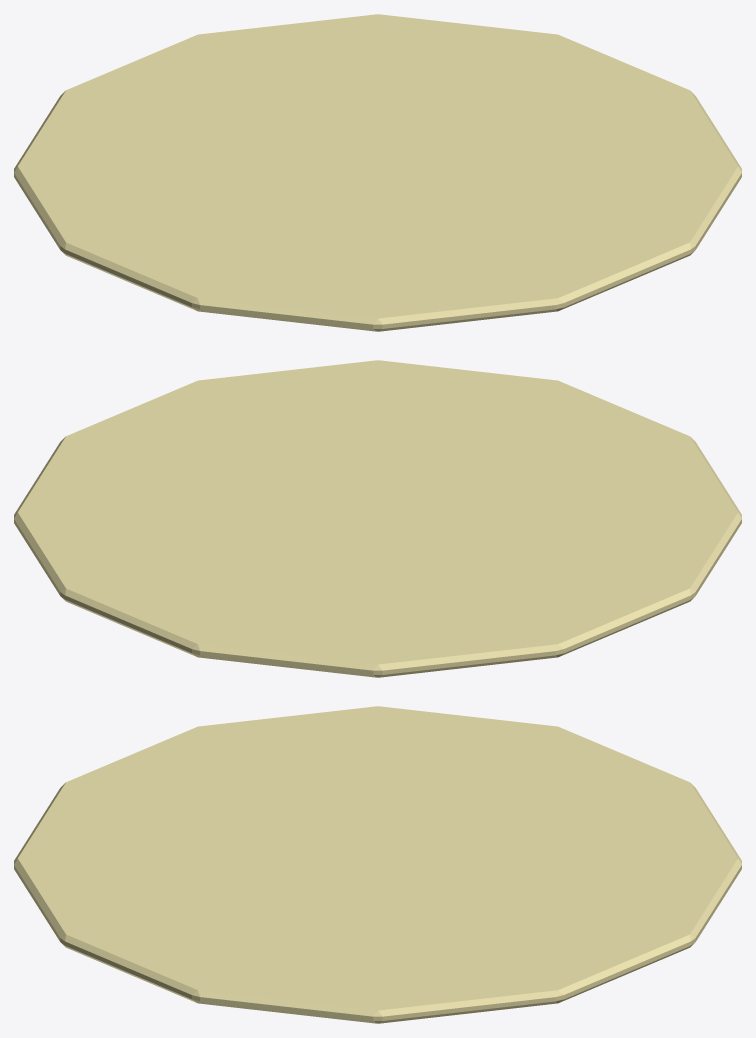
File: Pancake.fbx
The picture shows the model from 3 angles, top to bottom: view 1: azimuth 30°, elevation 25°; view 2: azimuth 150°, elevation 25°; view 3: azimuth 270°, elevation 25°; orthographic projection.
Parts seen in each view (by area): view 1: Pancake; view 2: Pancake; view 3: Pancake.
Boxes of the visible parts, x1=… form: Pancake: x1=14, y1=14, x2=741, y2=331; Pancake: x1=14, y1=360, x2=741, y2=677; Pancake: x1=14, y1=706, x2=741, y2=1023.
Size of the model in its own units: 12.43 by 0.2494 by 12.43.
